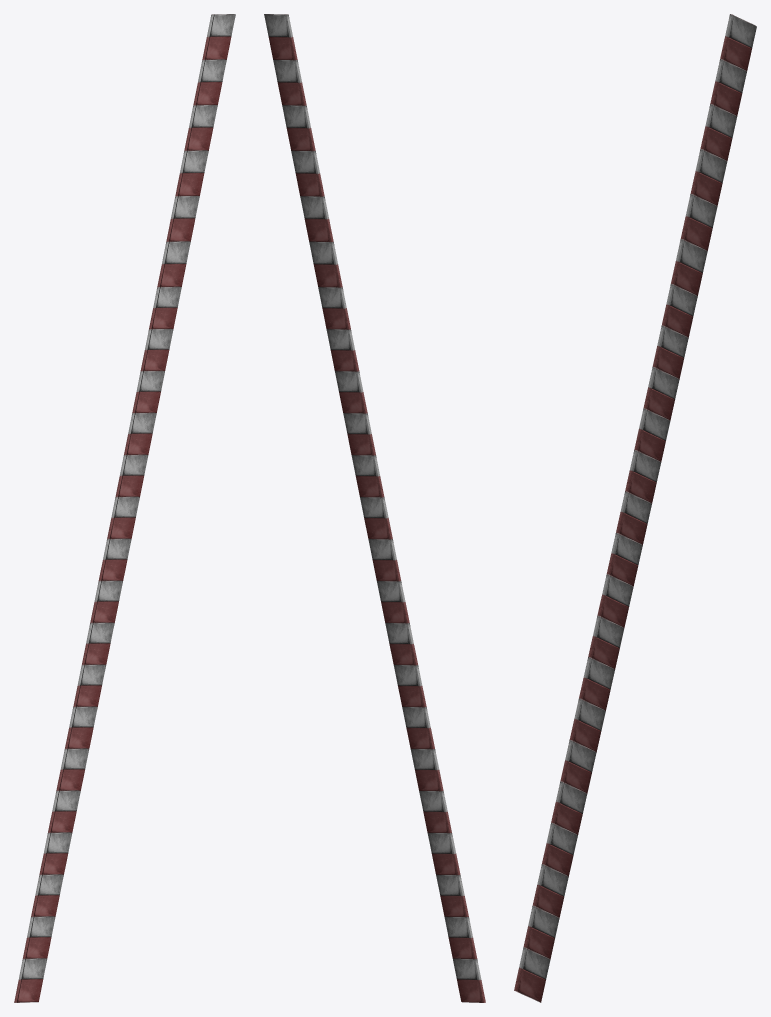
Rendered from _1KERB_01_03.obj.
The picture shows the model from 3 angles, left to right: view 1: azimuth 30°, elevation 25°; view 2: azimuth 150°, elevation 25°; view 3: azimuth 330°, elevation 25°; orthographic projection. The views are drawn at different scales.
Parts seen in each view (by area): view 1: _1KERB_01_03_Scene.230; view 2: _1KERB_01_03_Scene.230; view 3: _1KERB_01_03_Scene.230.
Boxes of the visible parts, x1,y1,x2,y2 form: _1KERB_01_03_Scene.230: (14,14,235,1002); _1KERB_01_03_Scene.230: (264,14,485,1002); _1KERB_01_03_Scene.230: (514,14,756,1002).
Bounding box in the file's own units: 1136 × 4626 × 5.98.
